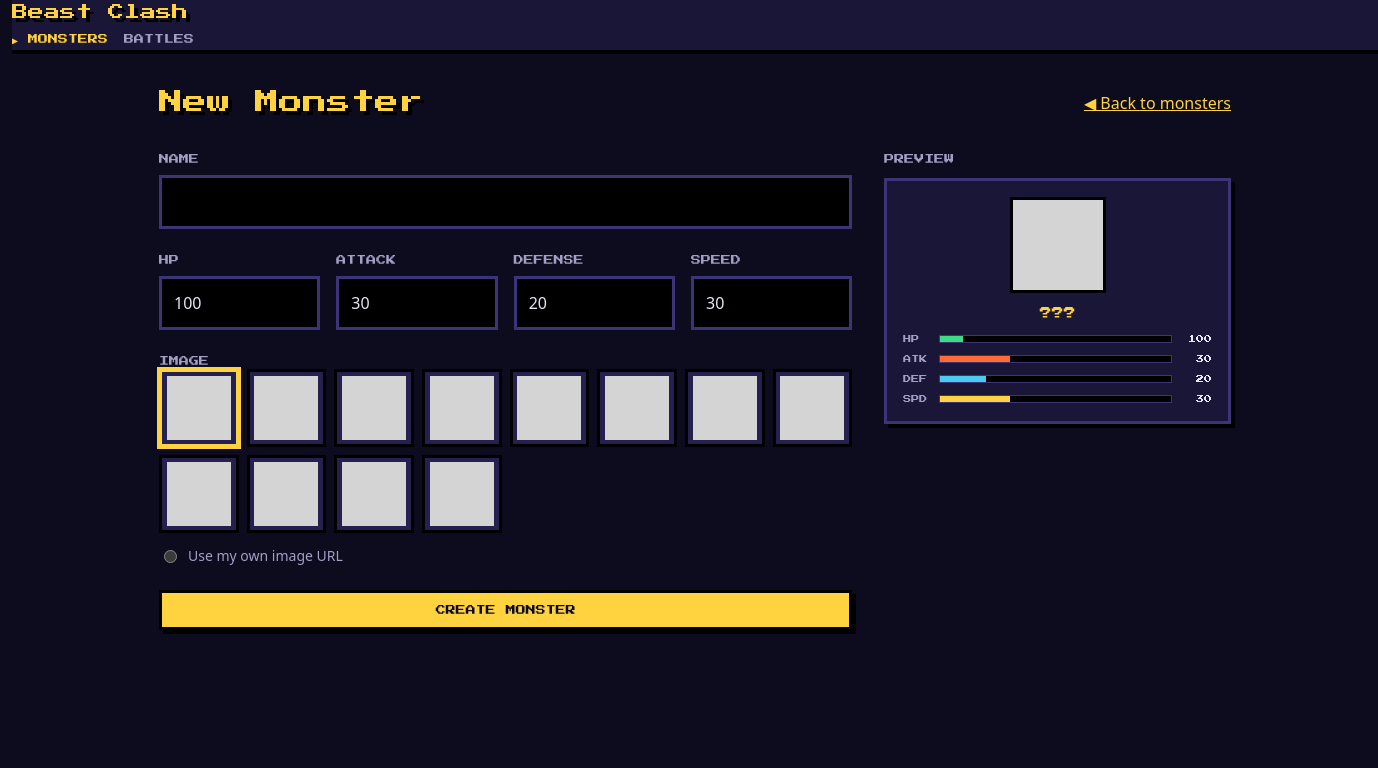
Test case: MonsterCreatePage › shows API validation issues next to their fields
The image size is (1378, 768).
Type "Emberclaw" into the field labelled "Name". click: (506, 202)
box: left=159, top=175, right=852, bottom=229
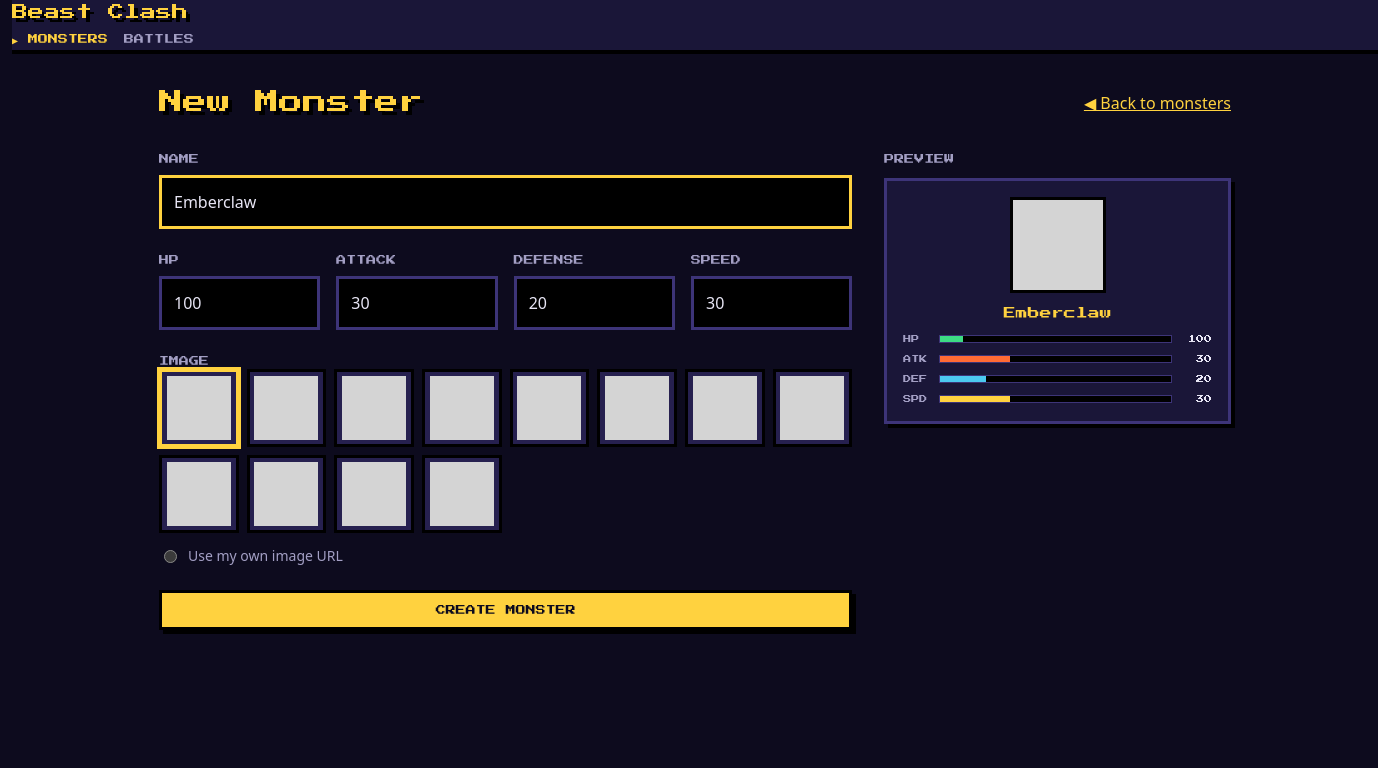
Click the button "Create monster". click: (506, 610)
box: left=159, top=590, right=852, bottom=630
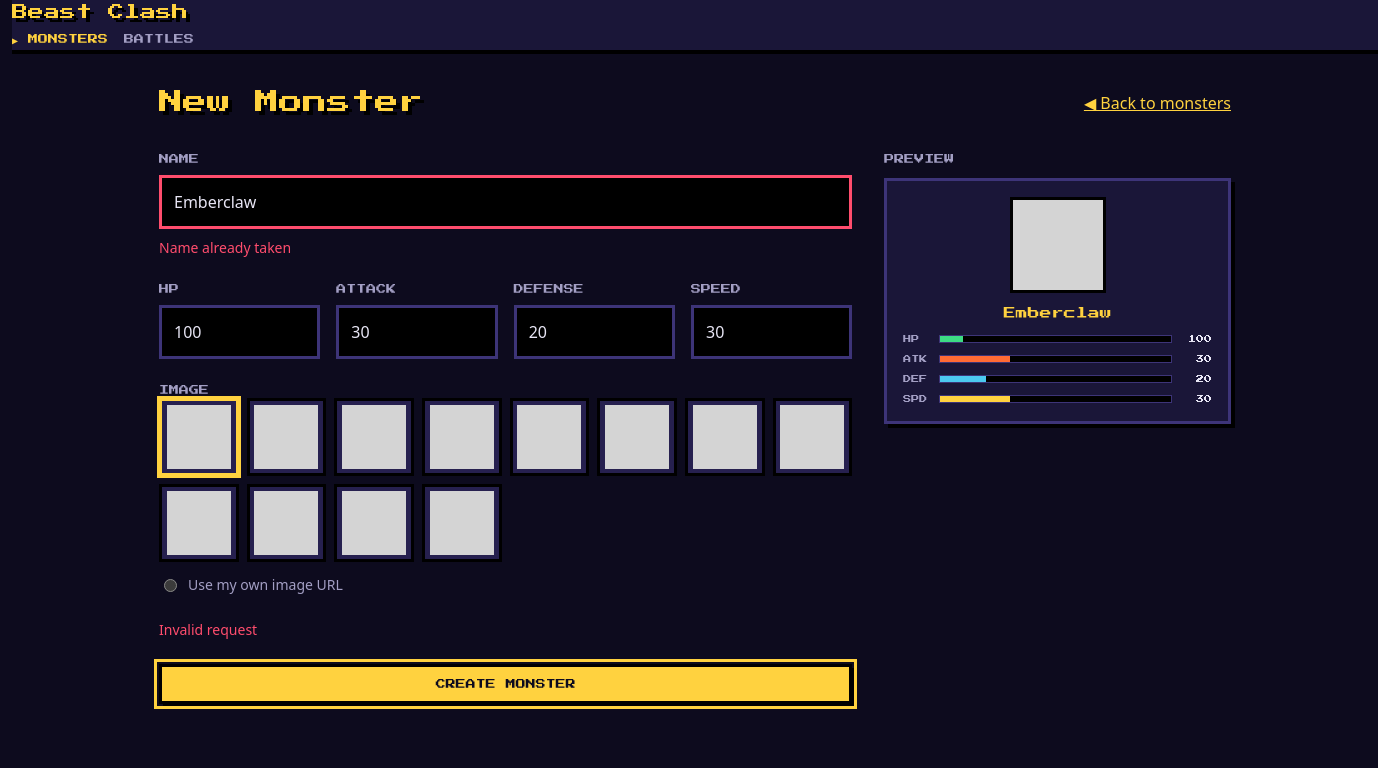
Expected: the heading "New Monster" is shown, left=159, top=86, right=423, bottom=120
Expected: the text "Name already taken" is shown, left=159, top=238, right=291, bottom=257
Expected: the message reads "Invalid request", left=159, top=620, right=257, bottom=639
